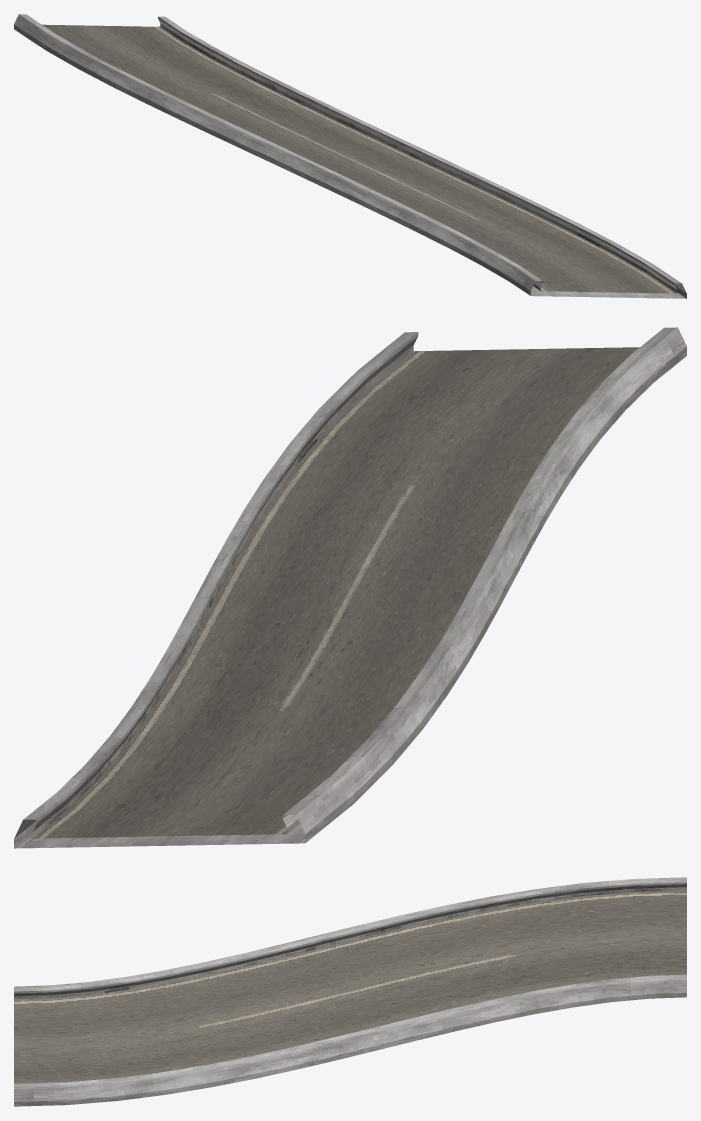
The model's file is chicane-left1x4.glb.
The picture shows the model from 3 angles, top to bottom: view 1: azimuth 30°, elevation 25°; view 2: azimuth 150°, elevation 25°; view 3: azimuth 270°, elevation 25°; orthographic projection. The views are drawn at different scales.
Parts seen in each view (by area): view 1: road-Chicane-HalfBankedRight-HalfBankedRight-Up1-Left1-Size4; view 2: road-Chicane-HalfBankedRight-HalfBankedRight-Up1-Left1-Size4; view 3: road-Chicane-HalfBankedRight-HalfBankedRight-Up1-Left1-Size4.
Part boxes in pixels (<box>): road-Chicane-HalfBankedRight-HalfBankedRight-Up1-Left1-Size4: <box>14,14,686,298</box>; road-Chicane-HalfBankedRight-HalfBankedRight-Up1-Left1-Size4: <box>14,327,686,848</box>; road-Chicane-HalfBankedRight-HalfBankedRight-Up1-Left1-Size4: <box>14,877,686,1106</box>.
Bounding box in the file's own units: 2 × 0.5859 × 4.
2 materials, 2 textured.
